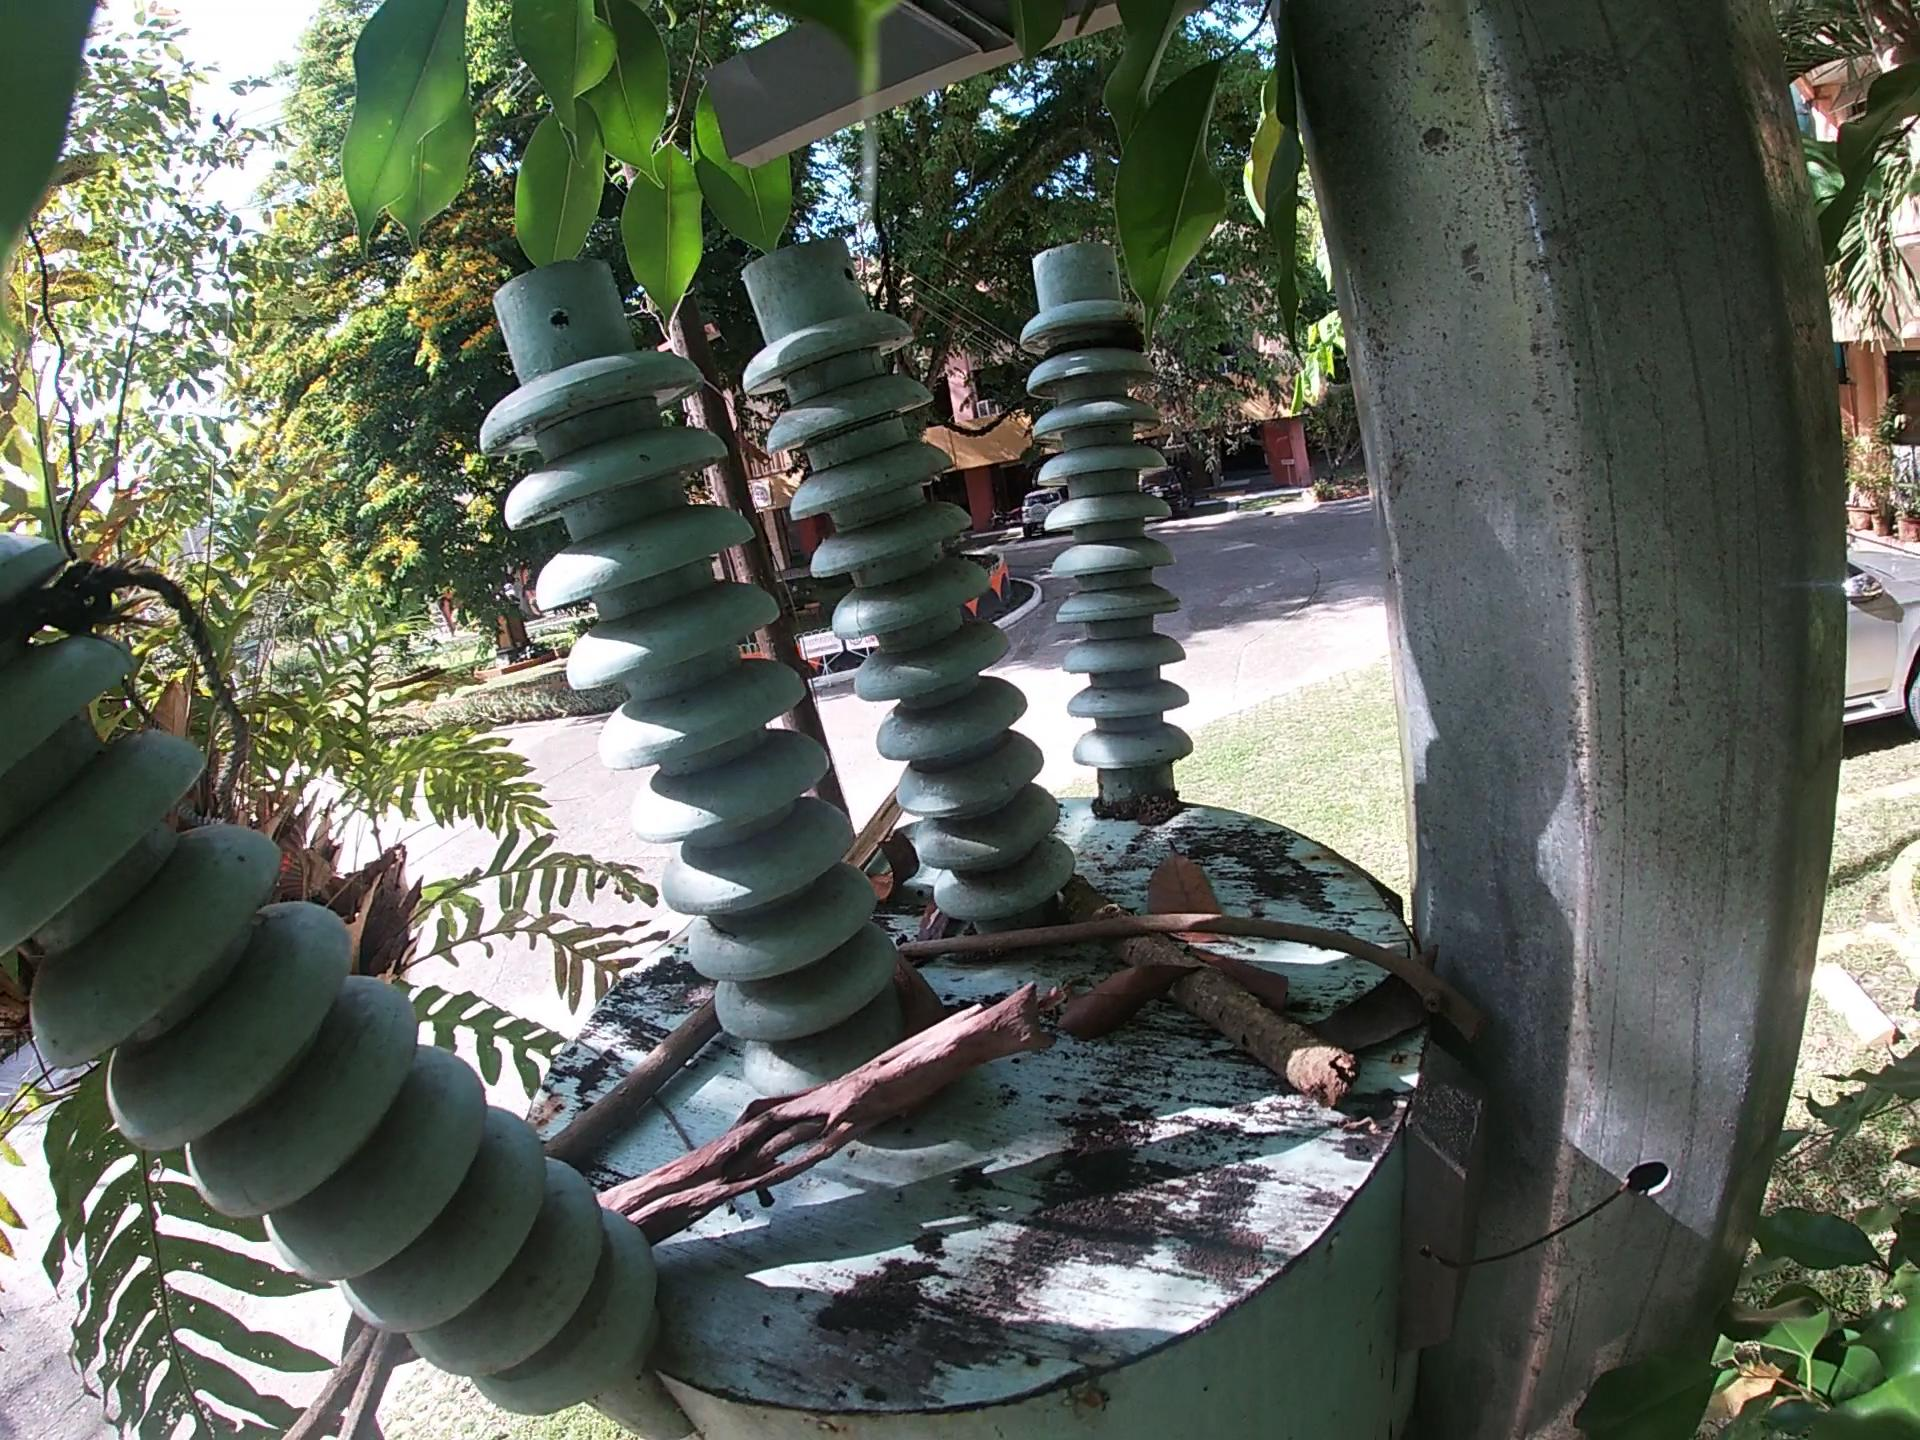leaf: (1300, 932, 1435, 1065), (1040, 951, 1197, 1059), (1191, 944, 1294, 1024), (1135, 835, 1228, 915)
mahogany fruit: (877, 932, 940, 1057), (859, 827, 928, 905)
tree branch: (593, 976, 1066, 1240), (889, 905, 1497, 1060), (1058, 867, 1367, 1121), (531, 989, 736, 1175), (835, 782, 912, 883)
